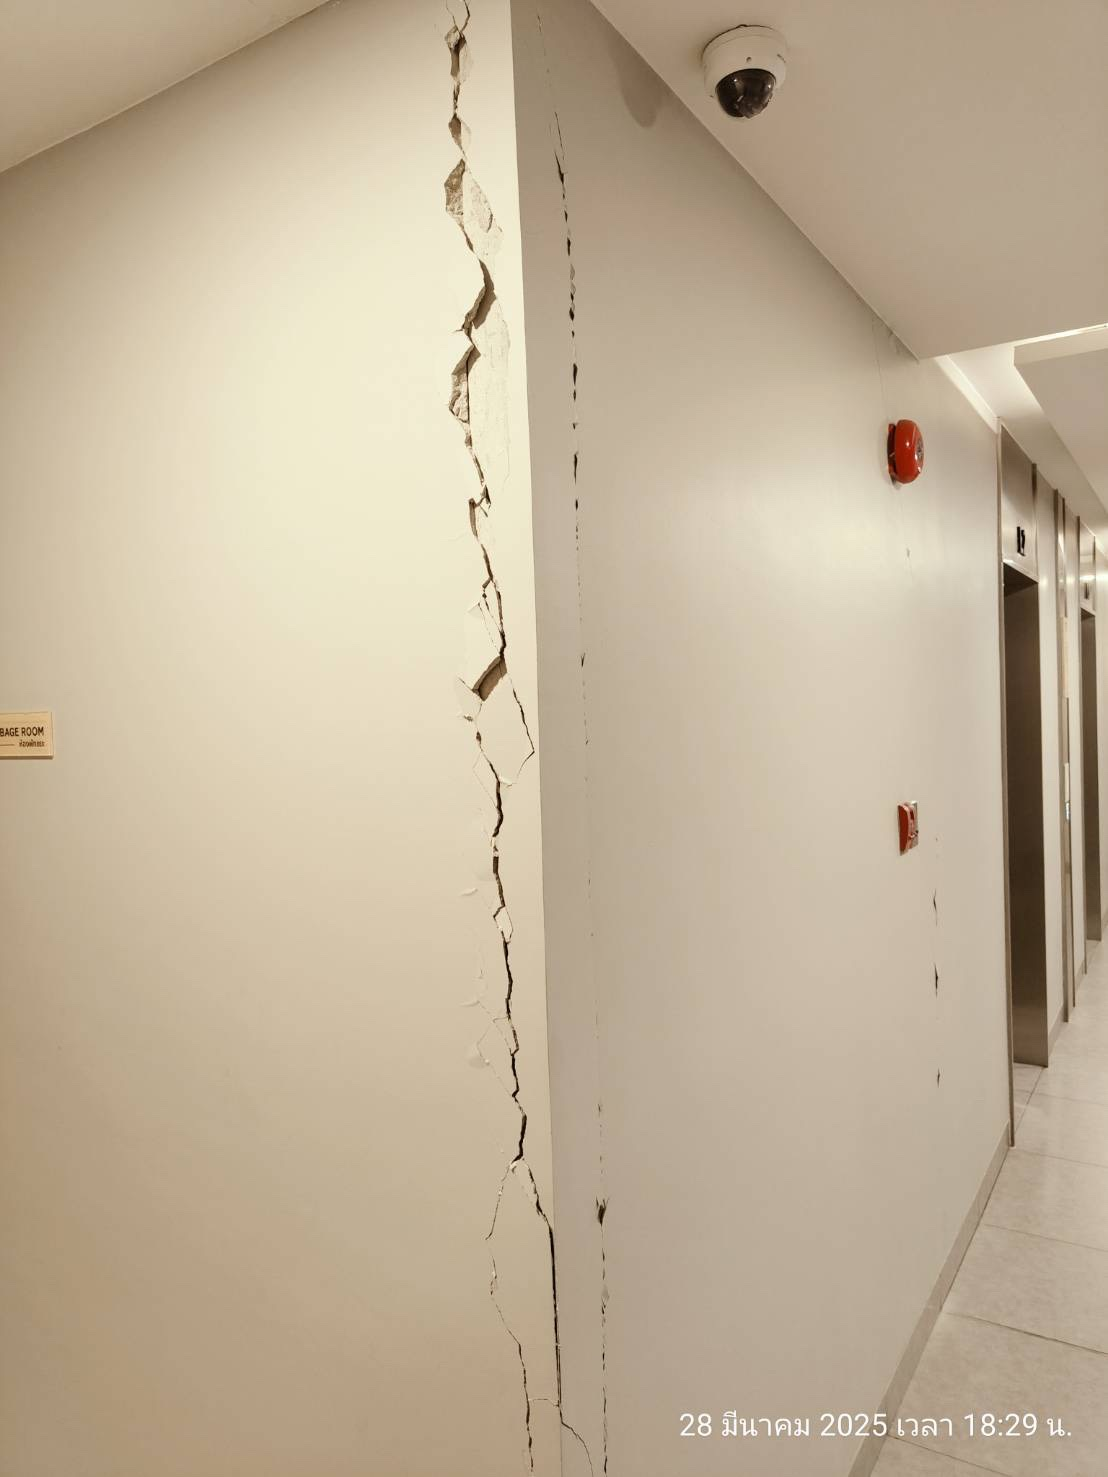Medium: (379, 45, 544, 1108)
